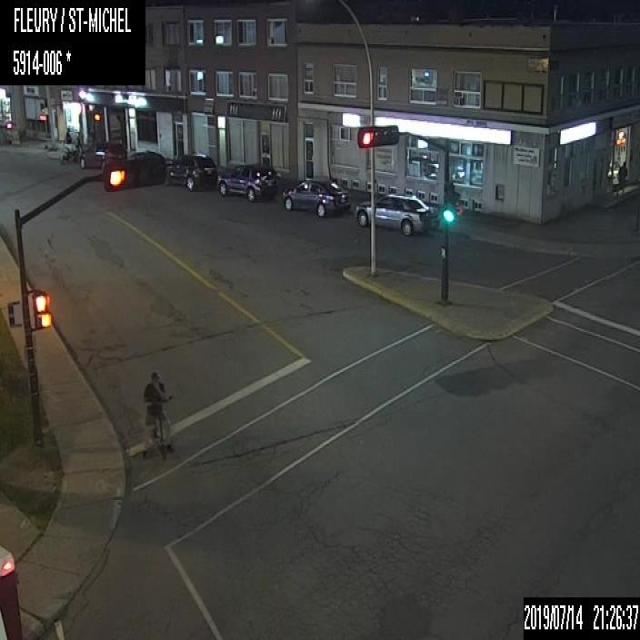cyclist: (142, 369, 174, 459)
pedestrian: (614, 156, 628, 198), (64, 124, 74, 144)
vehicle: (352, 188, 434, 236), (282, 174, 349, 218), (217, 161, 279, 201), (166, 147, 217, 190), (78, 138, 127, 170), (59, 142, 79, 162)
